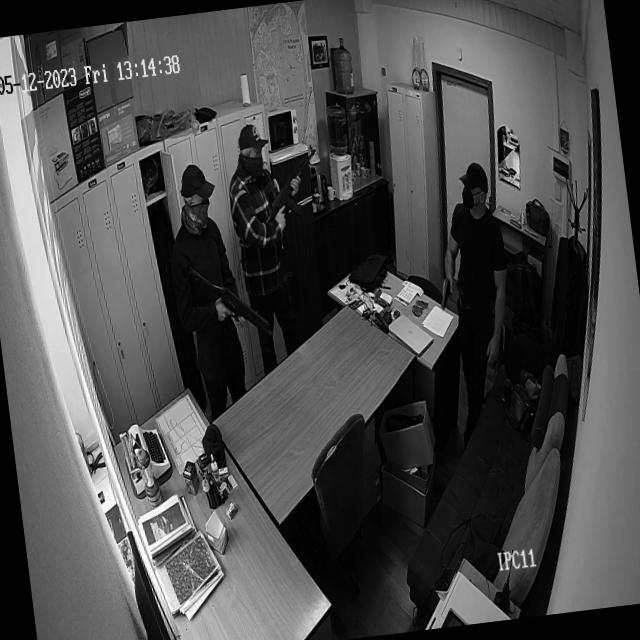gun: (185, 252, 275, 349), (263, 144, 324, 221), (436, 274, 456, 315)
person with a gun: (432, 163, 518, 414), (162, 164, 252, 403), (224, 128, 306, 357)
